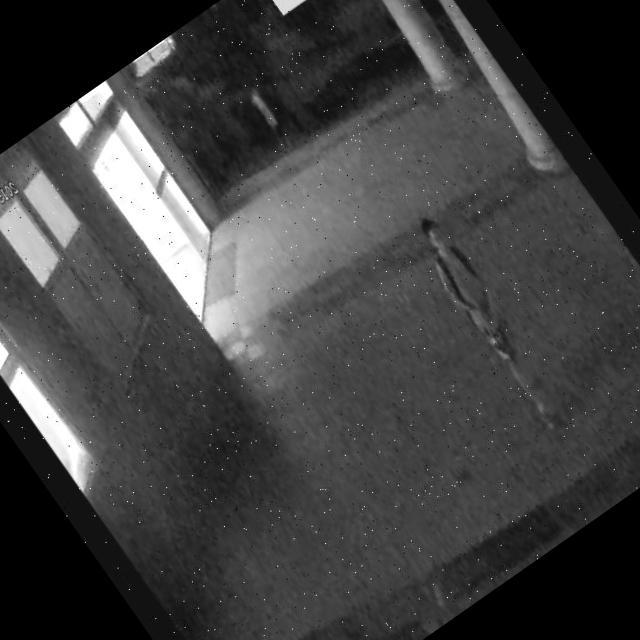person: (388, 188, 602, 463)
